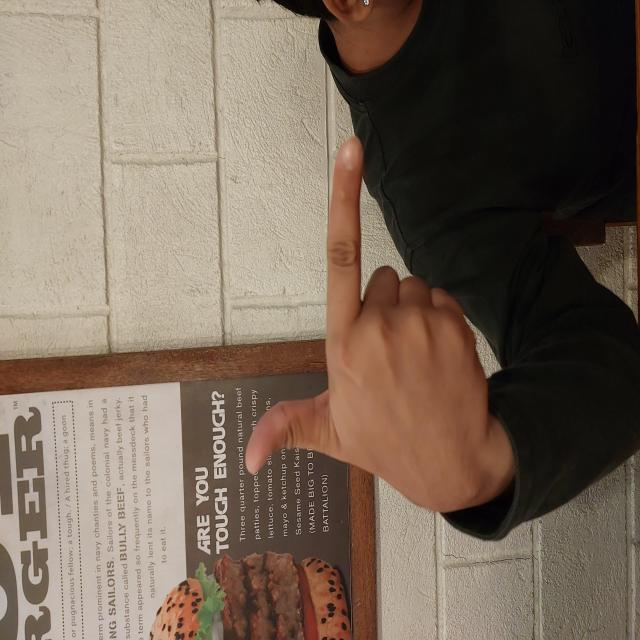G: (125, 244, 507, 492)
